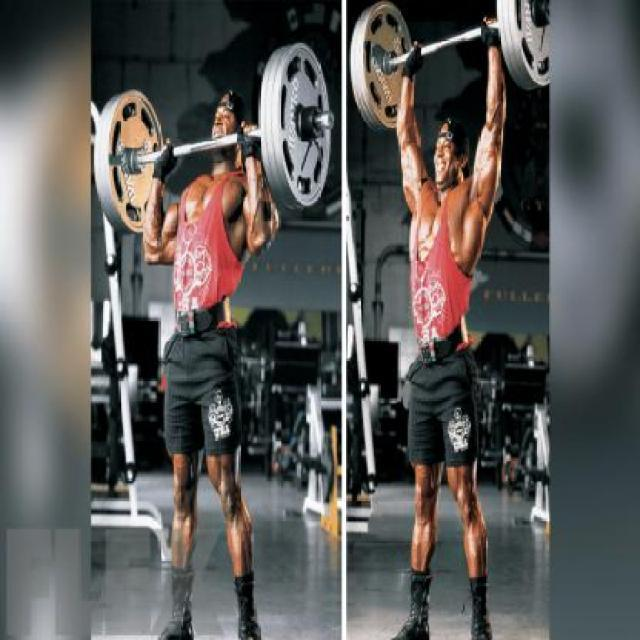barbell: (257, 37, 337, 223)
